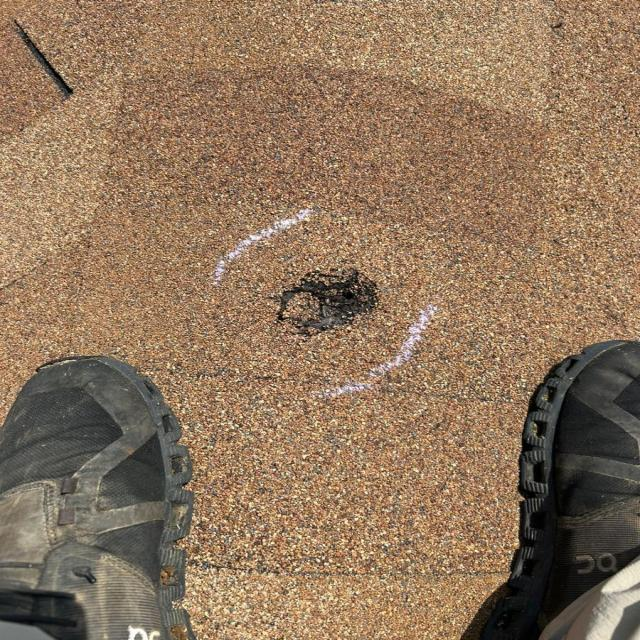trou: (261, 260, 387, 341)
